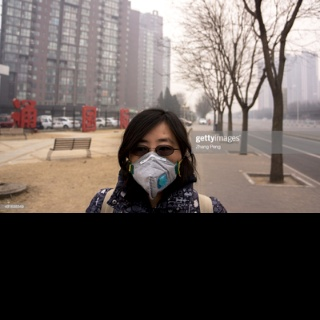with_mask: (128, 136, 181, 198)
